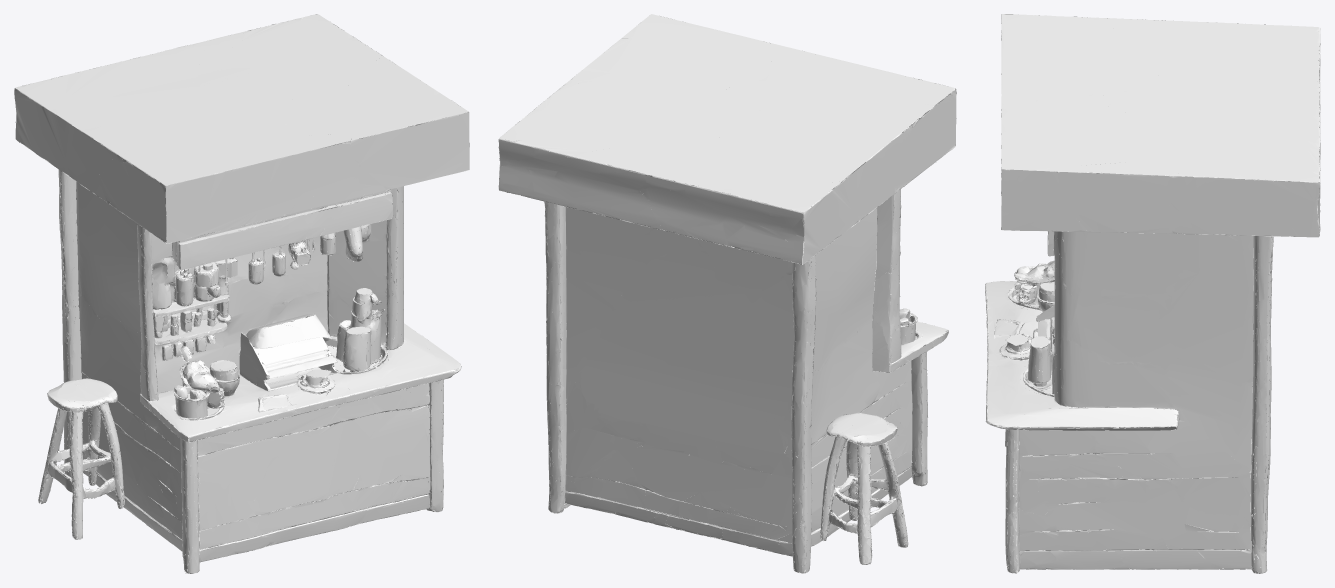
File: beach-maggi-stall.glb
The picture shows the model from 3 angles, left to right: view 1: azimuth 30°, elevation 25°; view 2: azimuth 150°, elevation 25°; view 3: azimuth 270°, elevation 25°; orthographic projection. The views are drawn at different scales.
Parts seen in each view (by area): view 1: model; view 2: model; view 3: model.
Part boxes in pixels (x1,y1,x2,y2): model: (14, 14, 469, 573); model: (498, 14, 956, 573); model: (985, 14, 1320, 573).
Bounding box in the file's own units: 1.64 × 1.91 × 1.38.
Materials: 1 (1 with a texture image).
